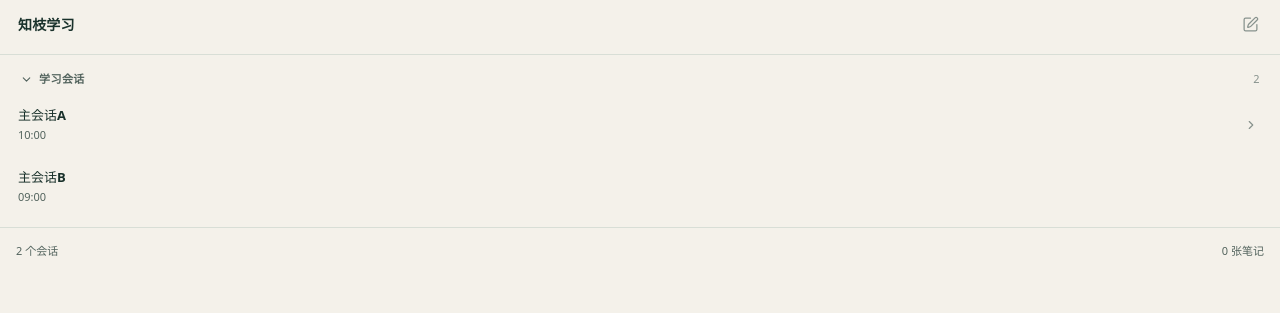
Scenario: ThreadList 分支展开 › 再次点击箭头收起分支树
Click the button with class "thread-list__item-toggle" at (1251, 125), box [1240,114,1262,136]
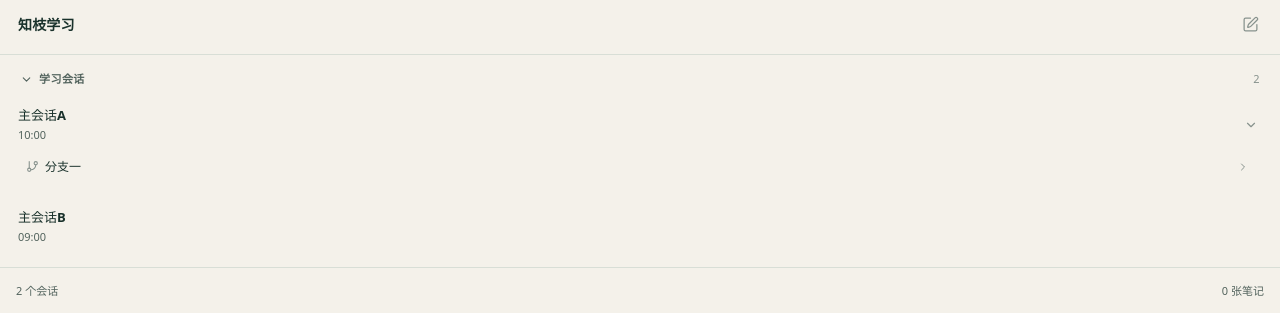
Expected: the text "分支一" is shown, [45,158,81,174]
Click the button with class "thread-list__item-toggle" at (1251, 125), box [1240,114,1262,136]
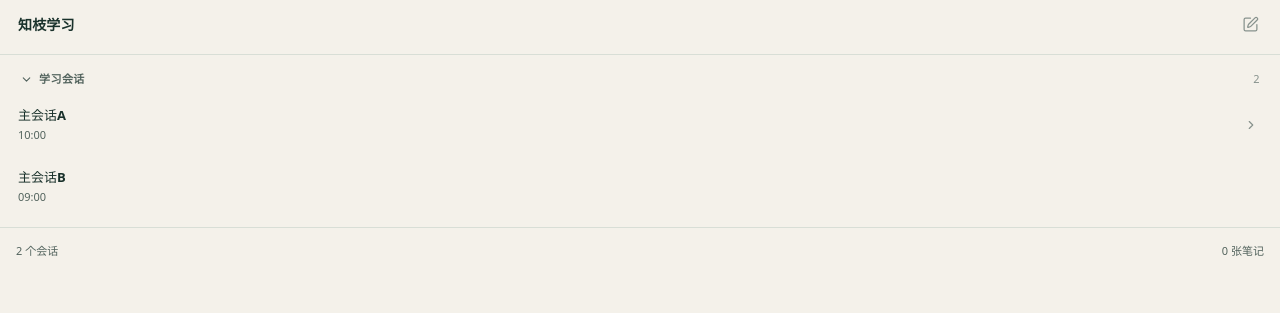
Expected: the text "分支一" is gone
